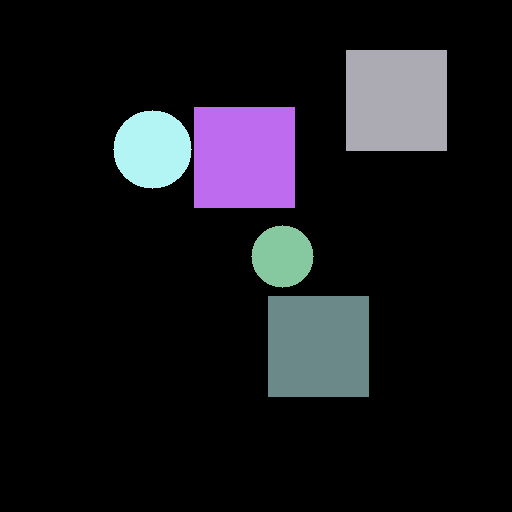circle: (113, 110, 191, 188), (251, 225, 313, 287)
square: (268, 296, 368, 396), (194, 107, 294, 207), (346, 50, 446, 150)
